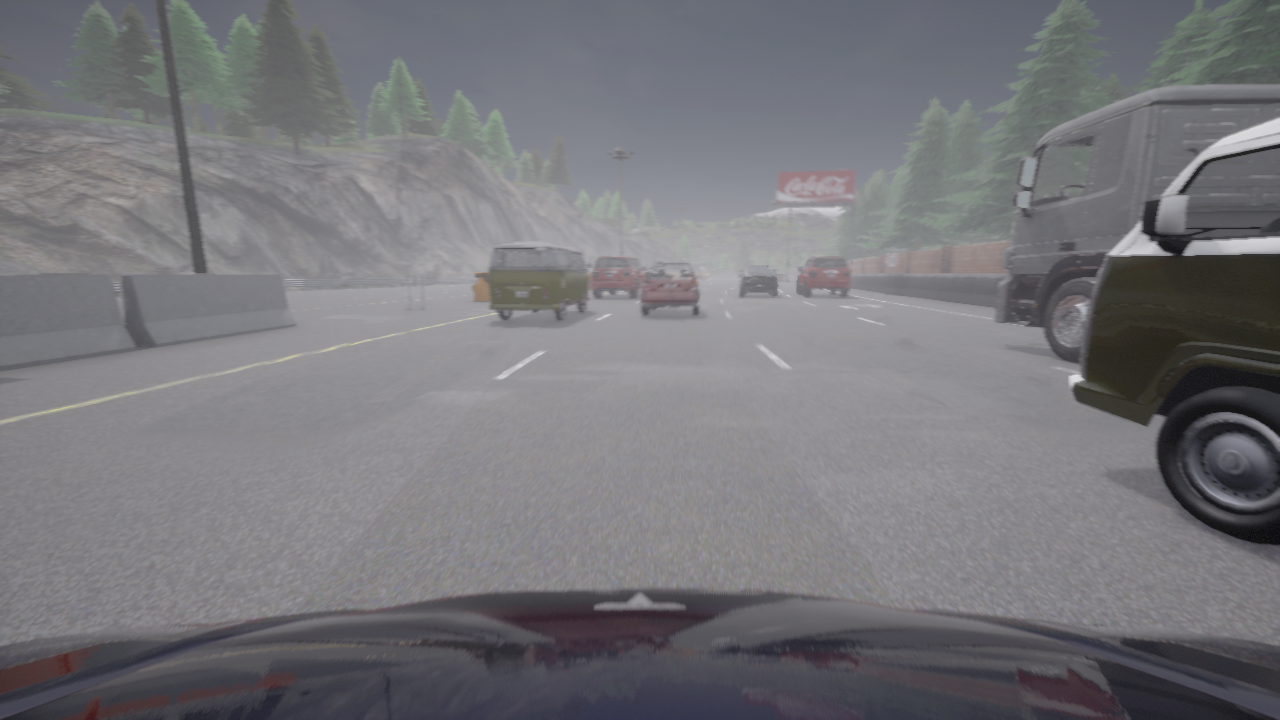cyclist: (0, 588, 1279, 719), (1069, 117, 1279, 545), (995, 85, 1279, 363), (489, 242, 590, 320), (641, 262, 701, 315), (591, 256, 647, 297), (797, 257, 849, 296), (739, 265, 777, 296)
